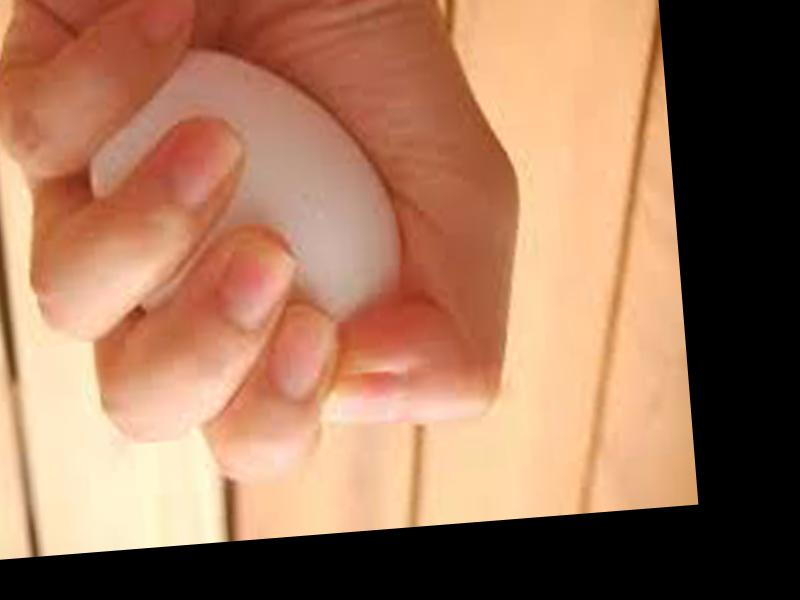Eggs: (79, 35, 408, 340)
